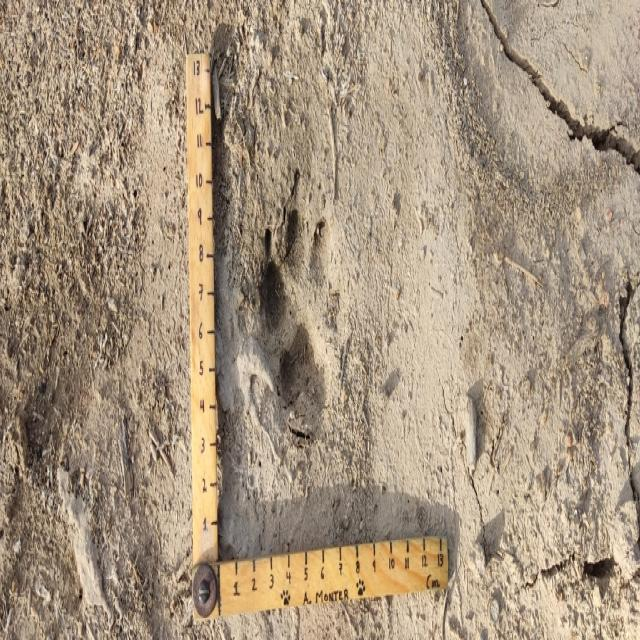canid: (260, 173, 342, 434)
